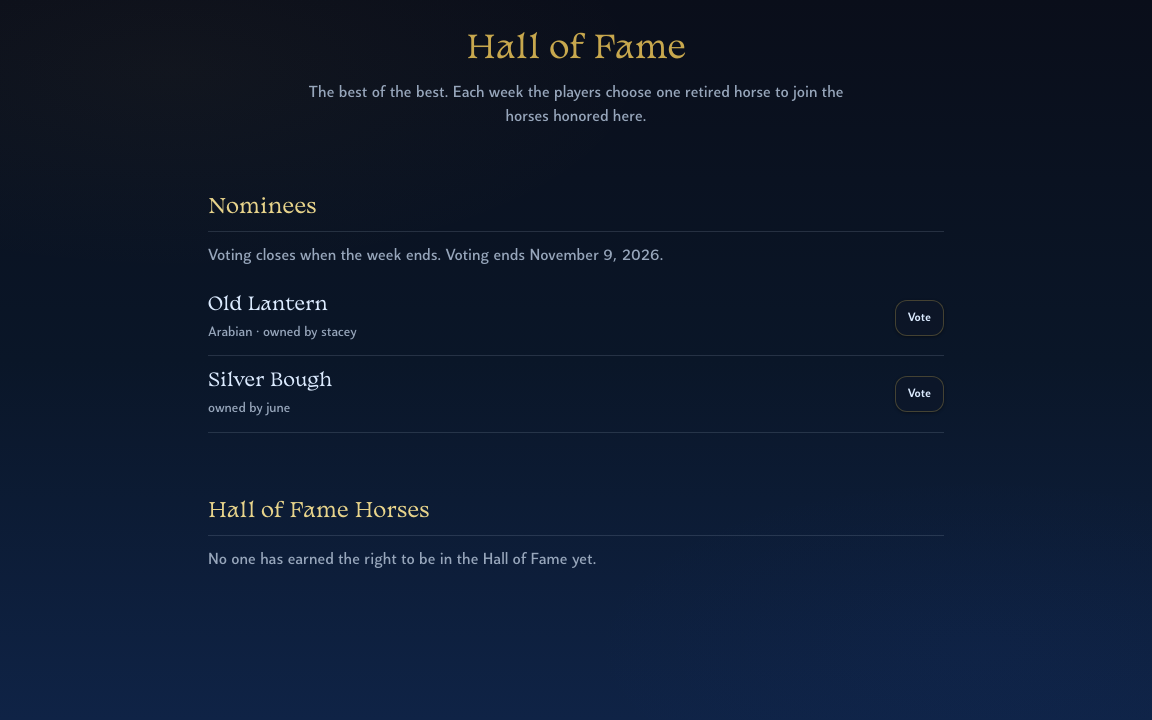
Test case: Hall of Fame page (Equoria-vb1n0) › lists nominees that open their horse page, and casts the one vote
What coordinates should you click on to do the following:
click the button with aria-label "Vote for Old Lantern"
I would click on:
 (919, 318)
Its box is [895, 300, 944, 336].
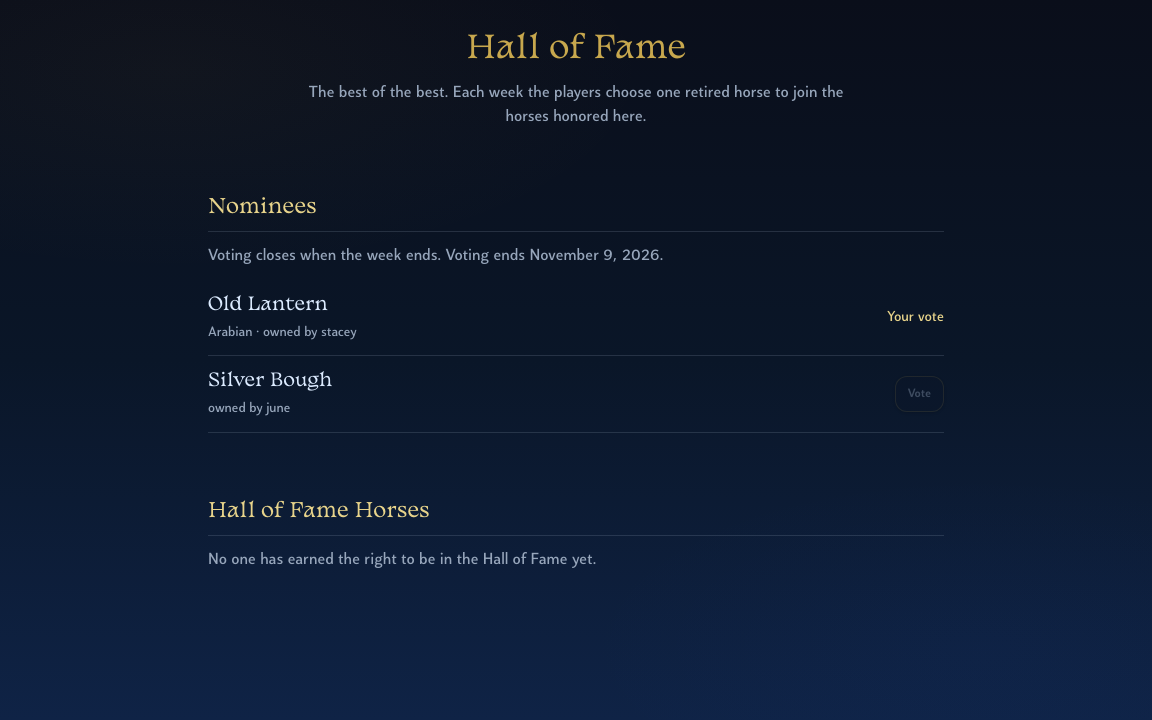
Expected: the text "Your vote" is shown, [887, 307, 944, 328]
Expected: the button "Vote" is disabled, [895, 376, 944, 412]
